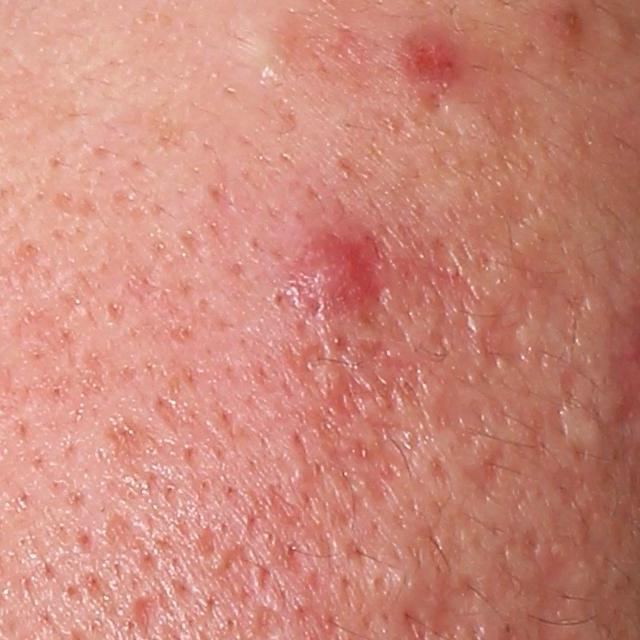atrophic_scar: (391, 253, 481, 365), (326, 337, 432, 428), (512, 256, 591, 343), (478, 288, 532, 378), (103, 409, 153, 473), (437, 385, 487, 448), (460, 446, 509, 502), (560, 361, 607, 418), (295, 340, 330, 387)
comedo: (233, 24, 302, 87)
hypertrophic_scar: (551, 404, 607, 463)
papule: (289, 211, 392, 321), (408, 31, 458, 80)
